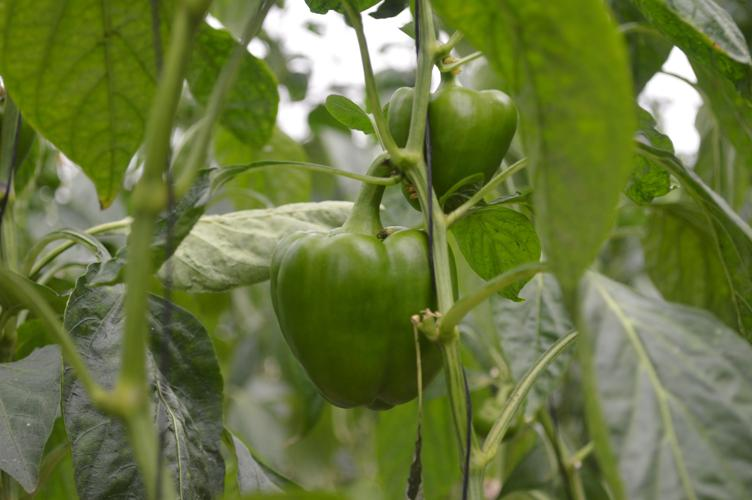BellPepper: (268, 225, 450, 426), (378, 76, 528, 219)
